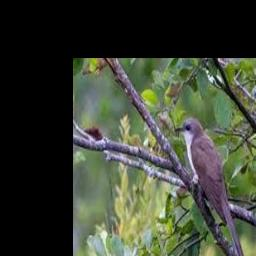Cuckoo: (176, 118, 246, 256)
